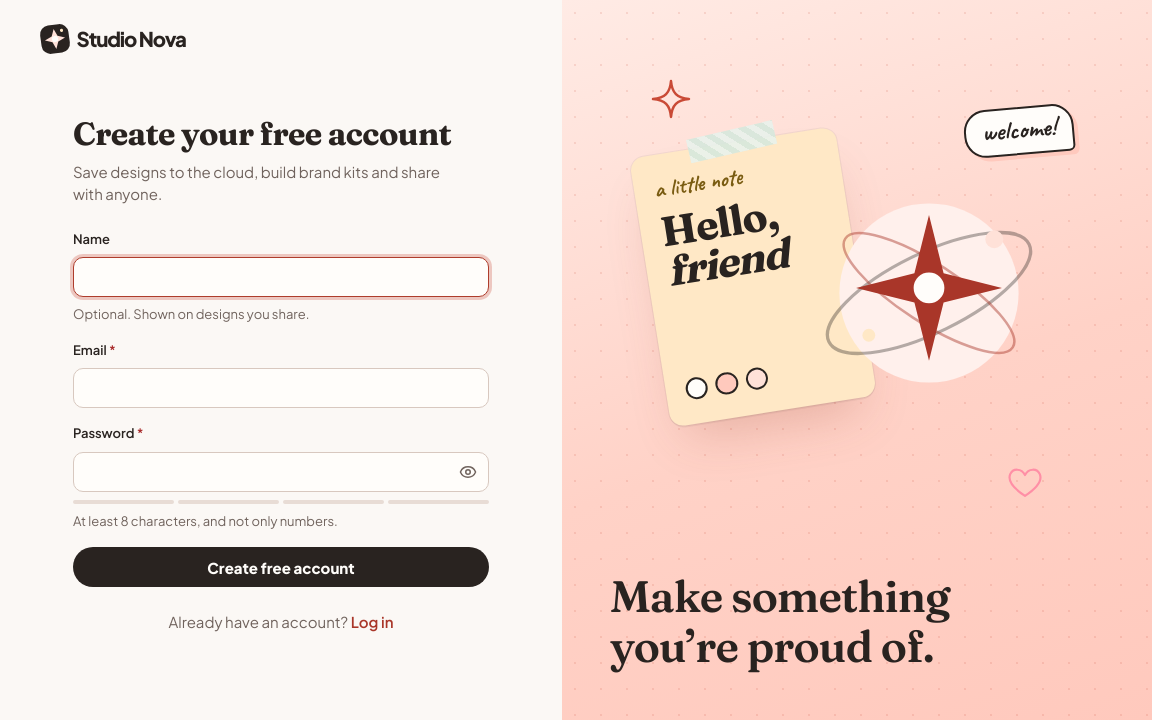
Test: signup › shows the strength meter and blocks weak passwords before submitting
Type "new@example.com" into the field labelled "Email *" at (281,388), box [86,369,476,407]
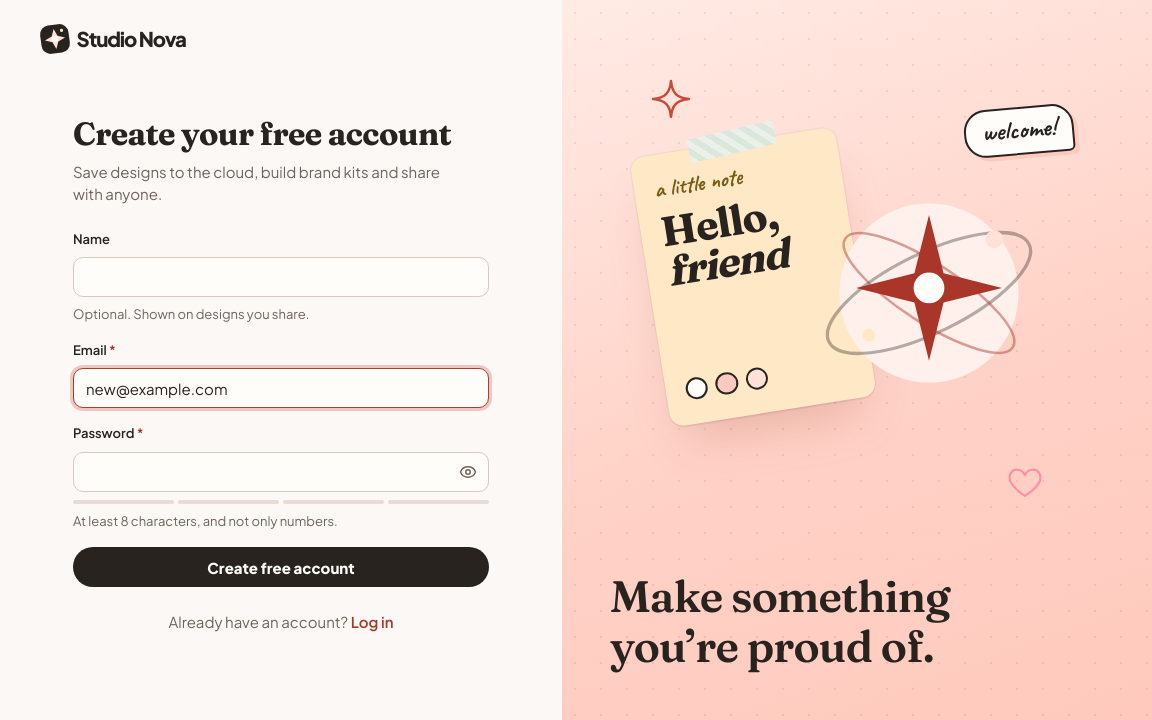
Type "1234" into the password field labelled "Password *" at (265,472), box [86,453,444,491]
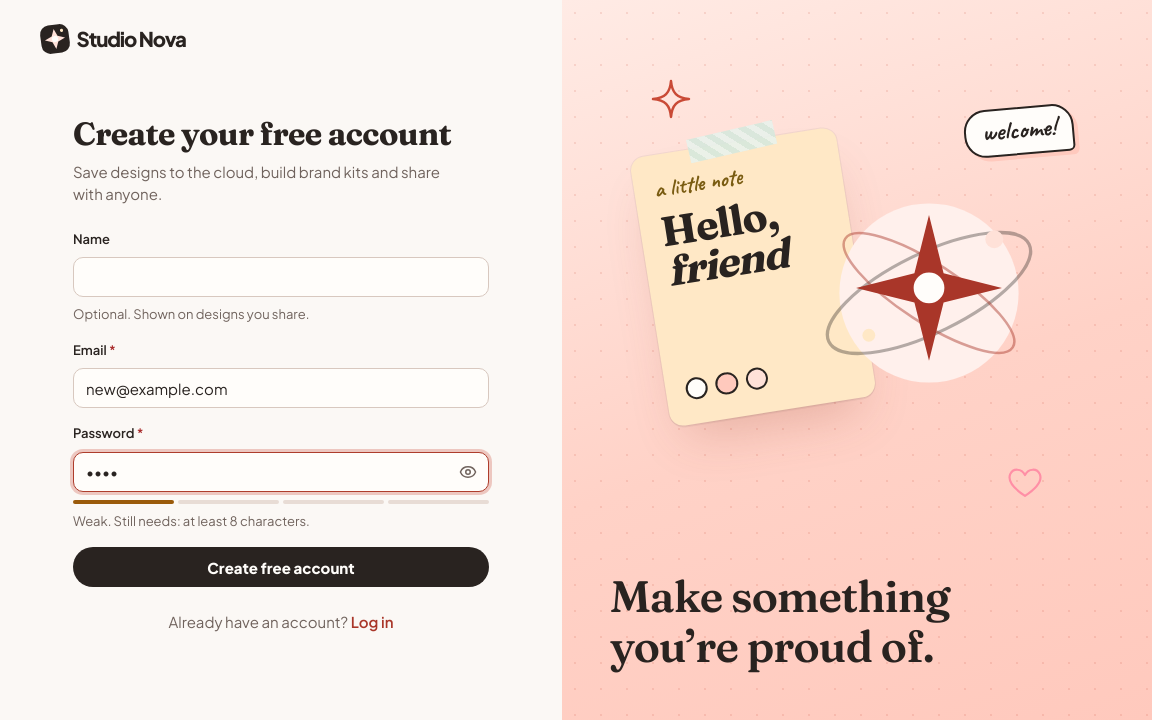
Check: the element named "Password strength" has attribute aria-valuenow="1", box [73,500,489,504]
Click the button "Create free account" at (281,567), box [73,547,489,587]
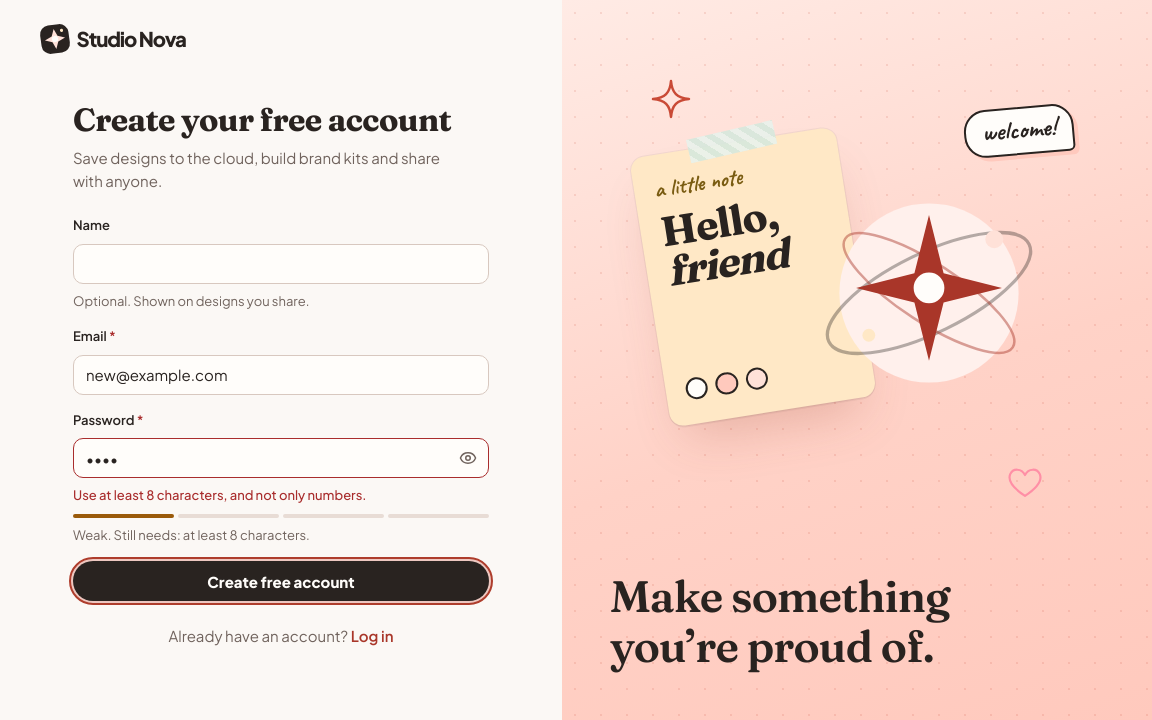
Check: the text "Use at least 8 characters, and not only numbers." is shown, box [73,487,366,503]
